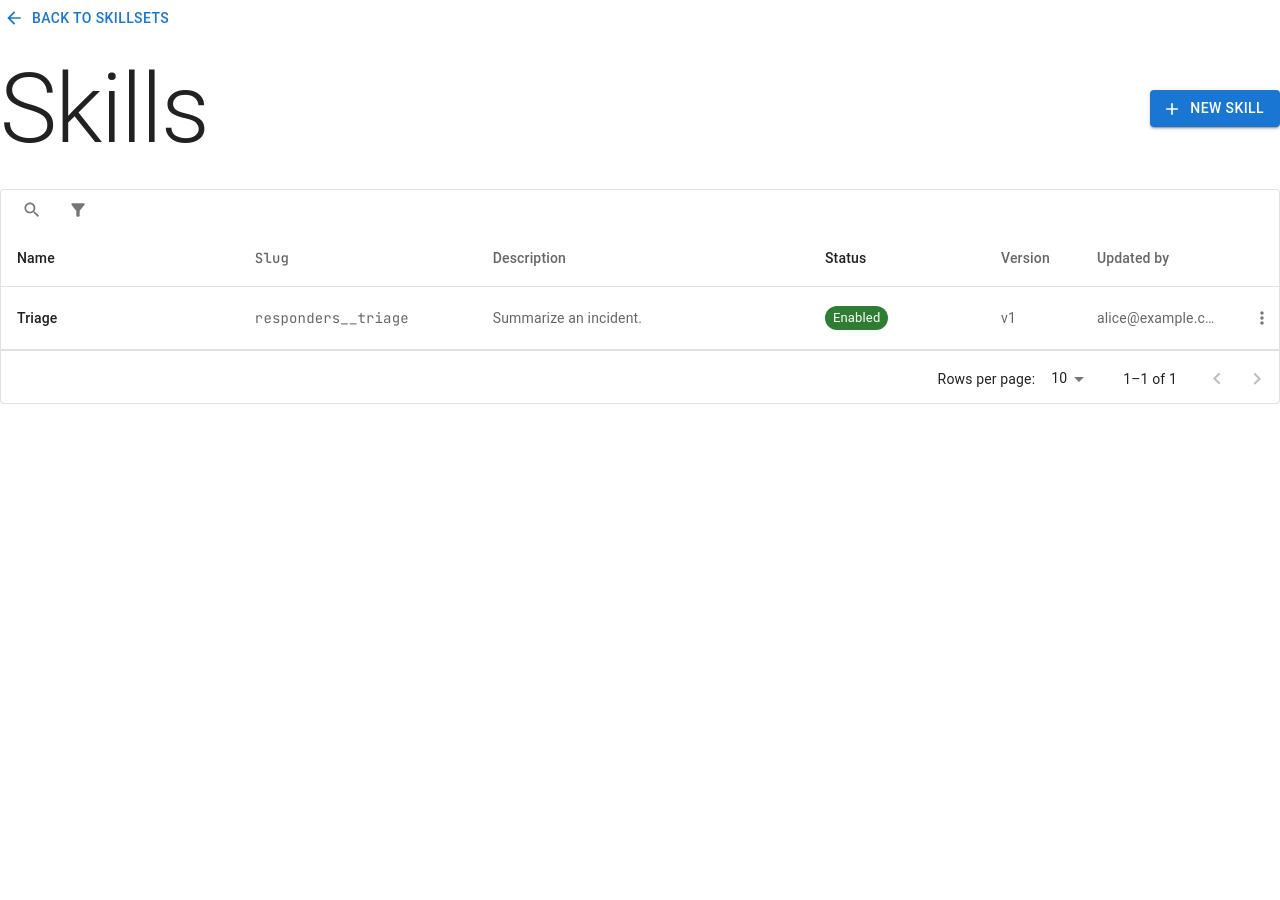
Test: SkillsetSkills › renders a skill with structured parameter inputs
Click the button named "more actions".
click(1262, 318)  # box [1247,302,1277,332]
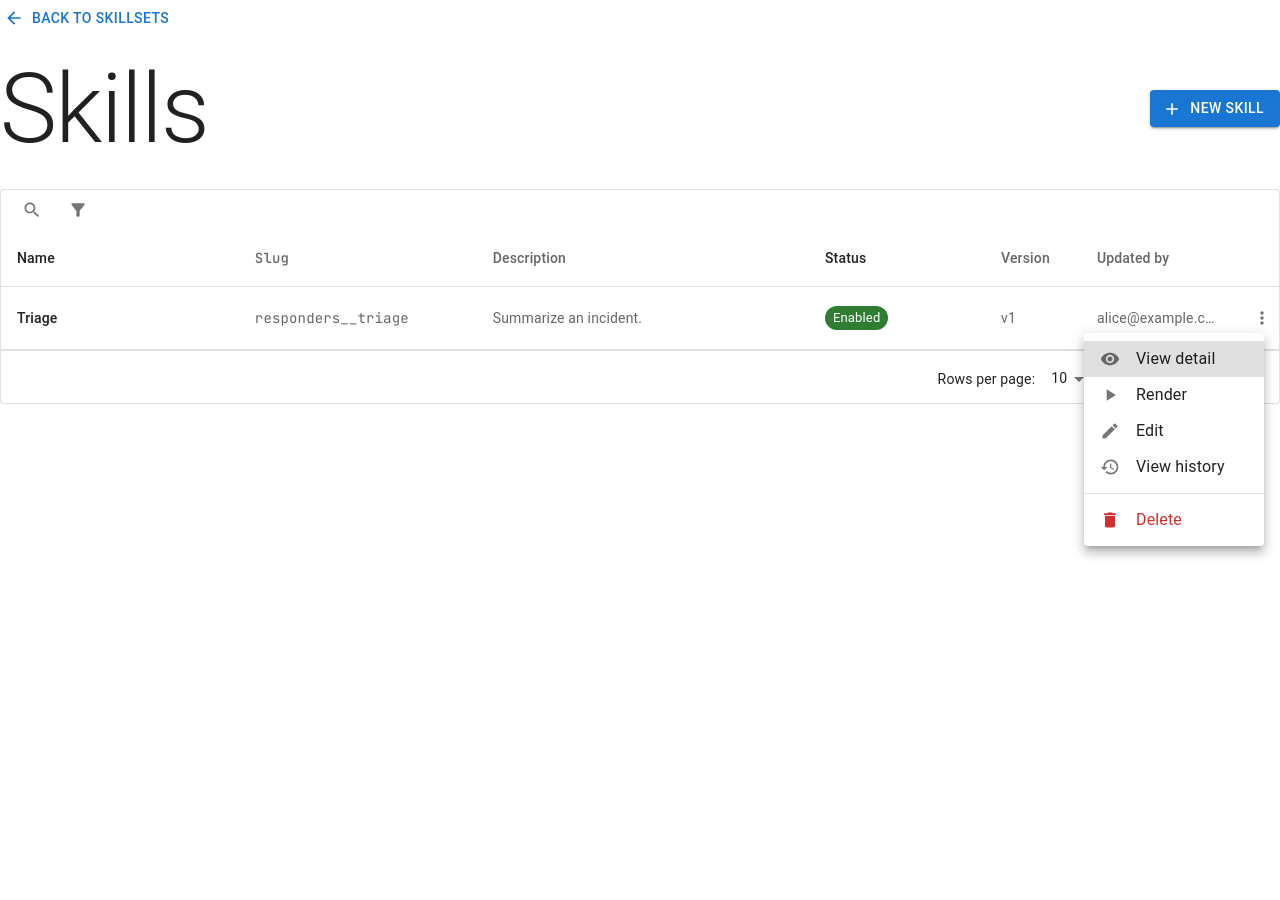
Click the menu item "Render".
click(1144, 395)  # box [1100,385,1187,405]
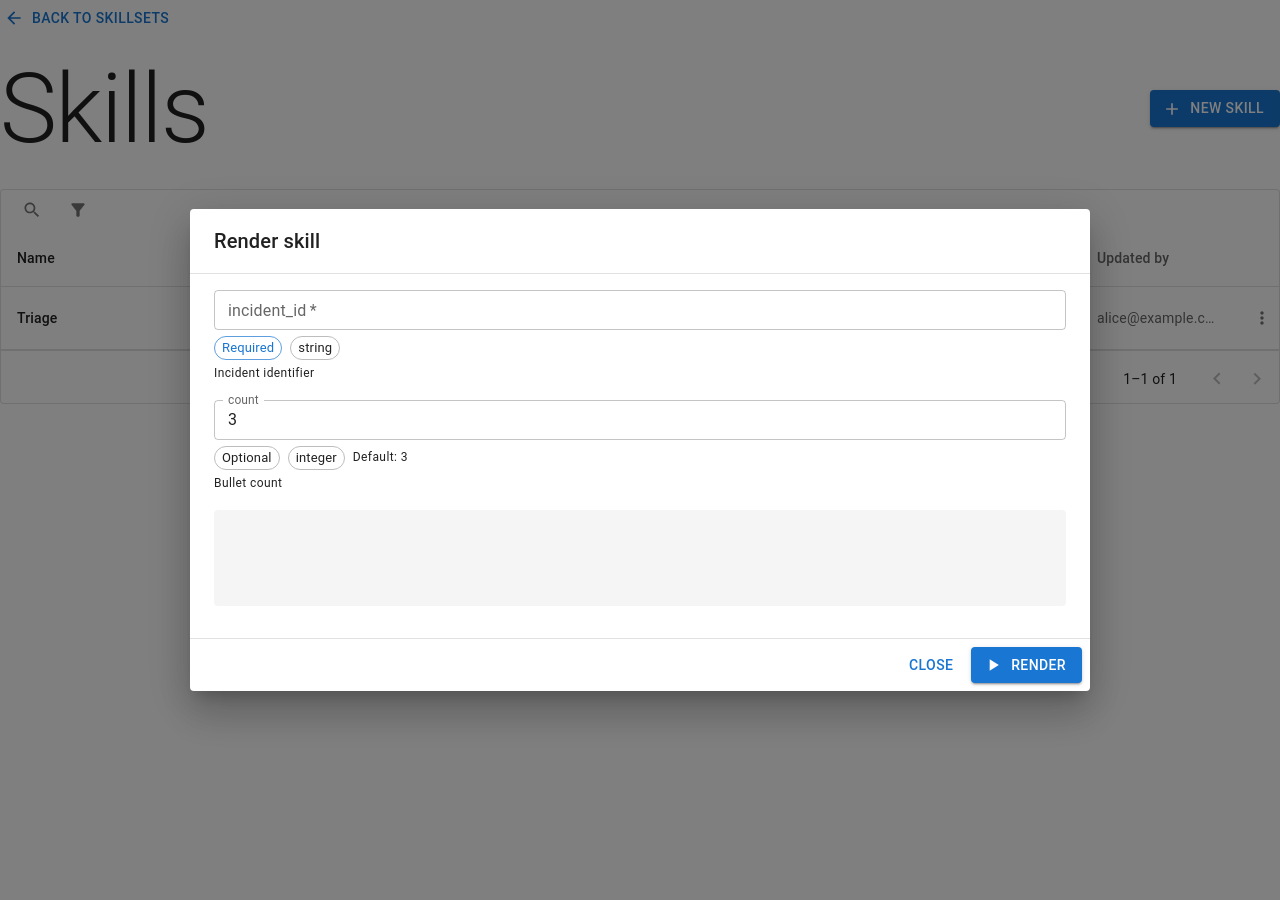
Check: the field labelled "incident_id *" is shown
Check: the number field labelled "count" holds "3", box [214,400,1066,440]
Check: the text "Required" is shown once, box [222,340,274,355]
Type "INC-1" into the field labelled "incident_id *".
click(640, 310); type("INC-1")  # box [214,290,1066,330]
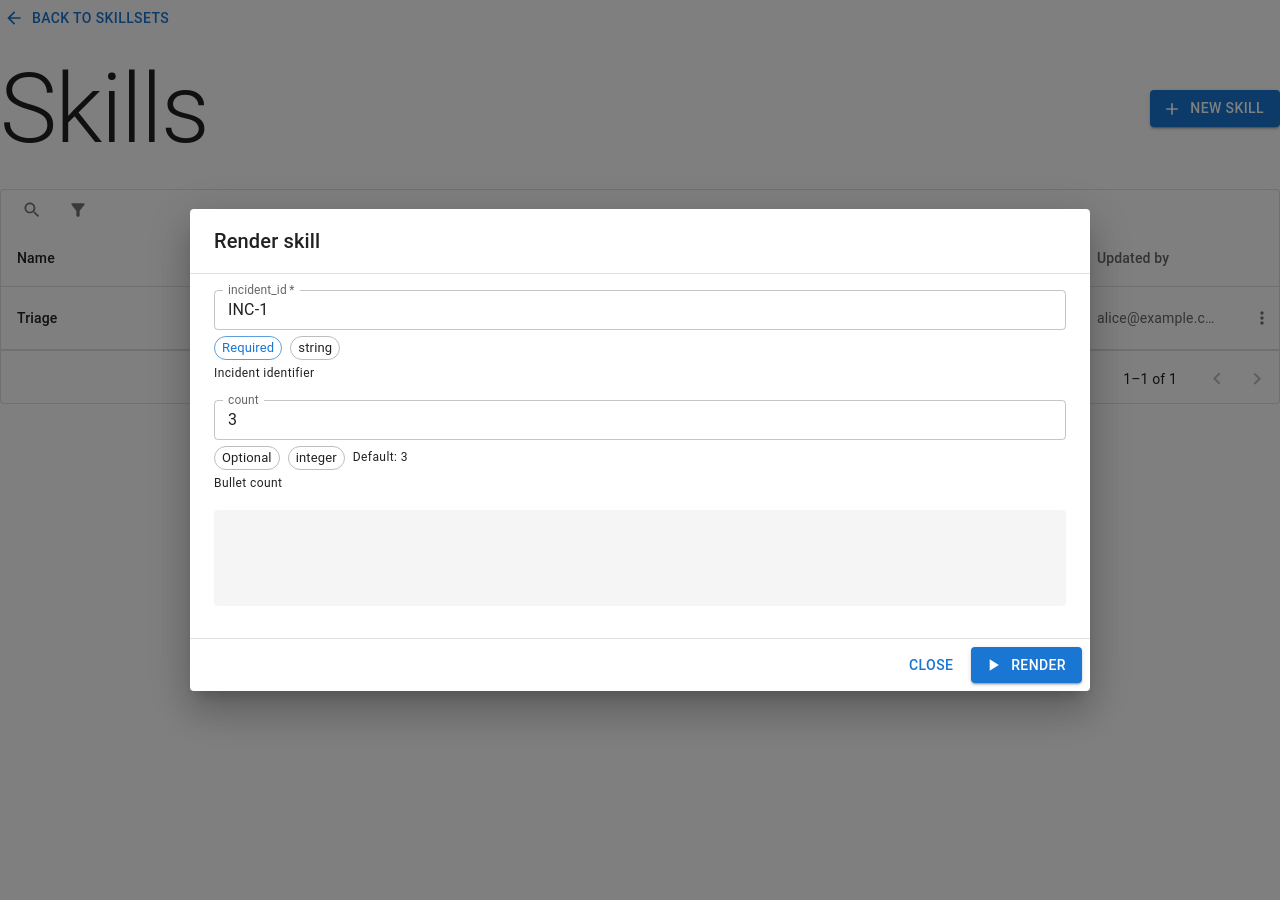
Click the button "Render".
click(1027, 665)  # box [971,647,1082,683]
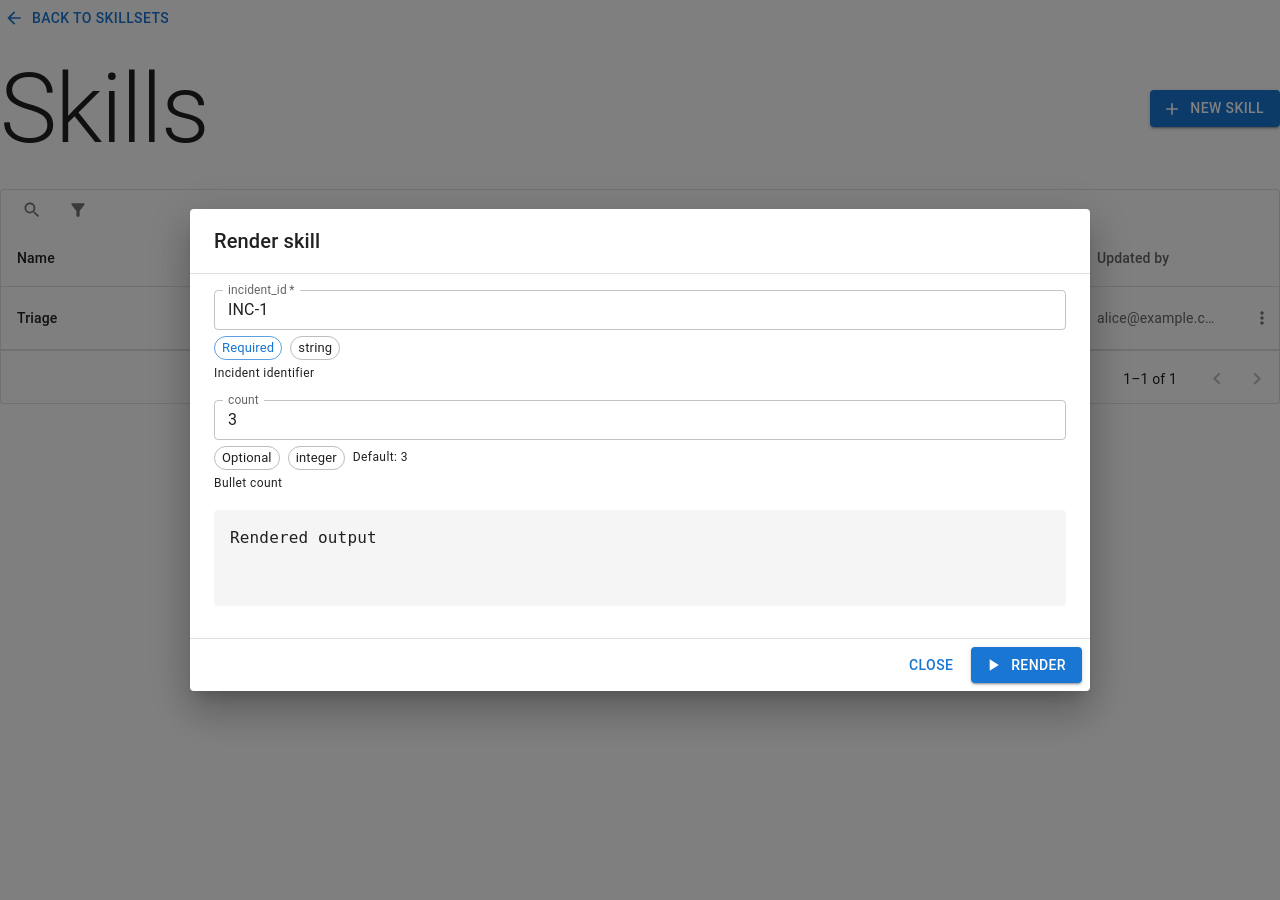
Check: the text "Rendered output" is shown, box [214,510,1066,606]
